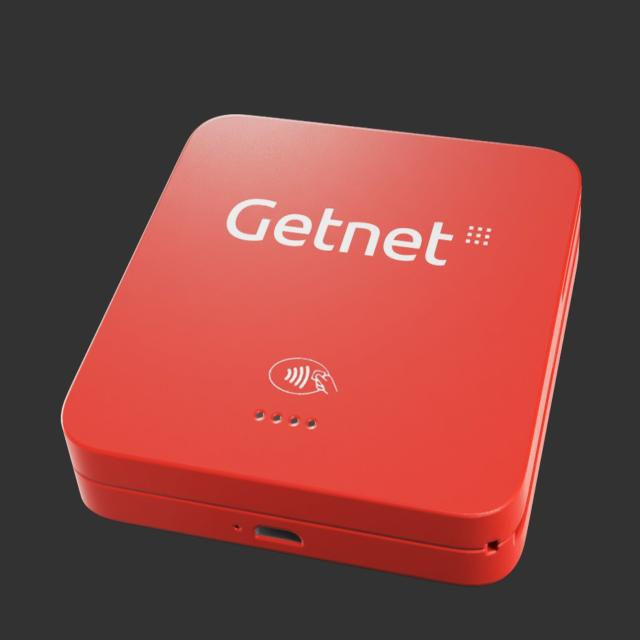getnet: (226, 197, 493, 267)
